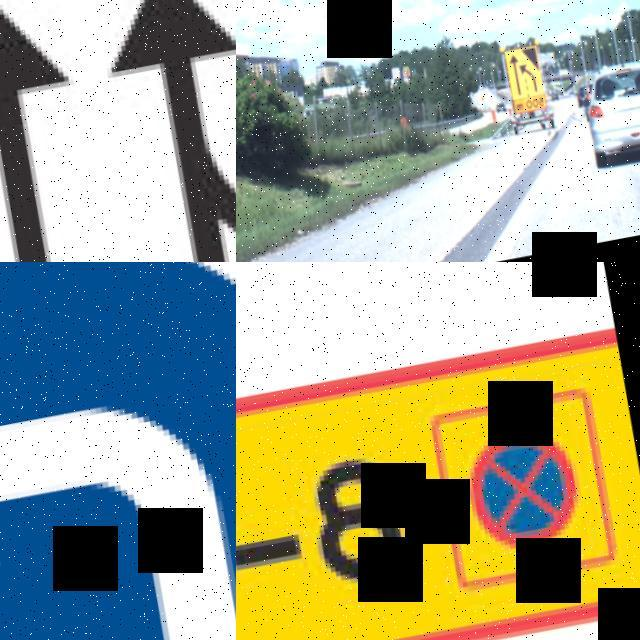181: (236, 318, 640, 640)
64: (502, 39, 550, 103)
71: (0, 0, 236, 262)
Turn right ahead: (0, 262, 236, 640)
